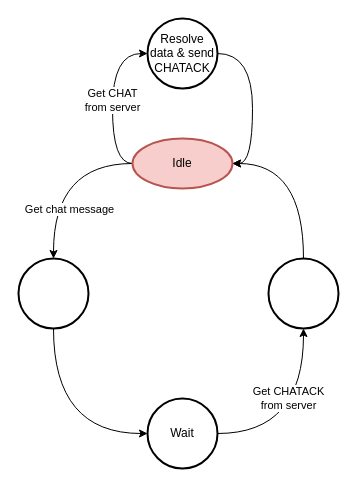
This 356x486 diagram has some shape labels left out. The shapes that lost their labels are listed below. From the top down, each one's centre as x and y in pixels, then its label:
At (x=53, y=293): "Send CHAT to server".
At (x=303, y=293): "Return result".
